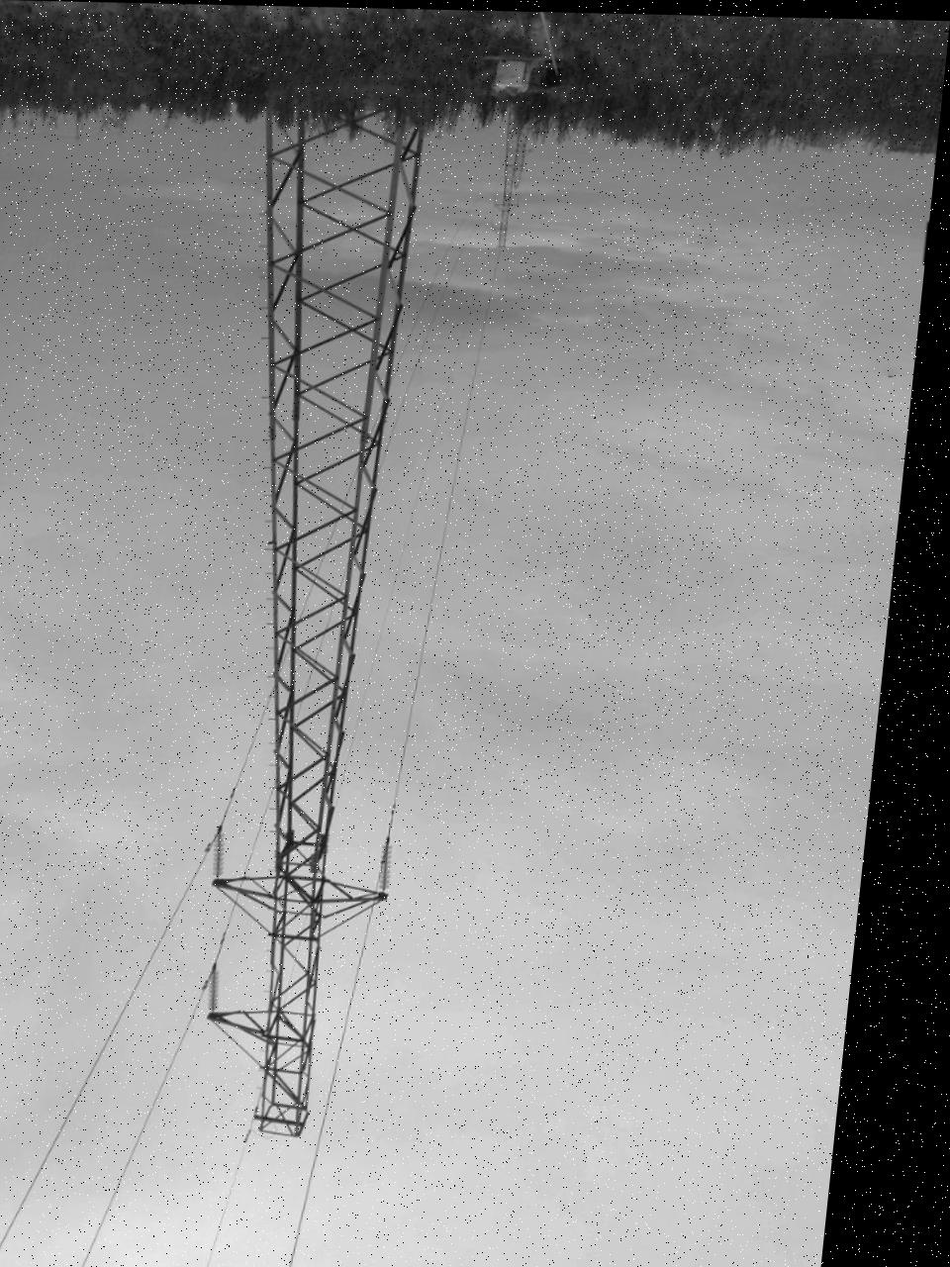tower: (133, 56, 485, 1158)
